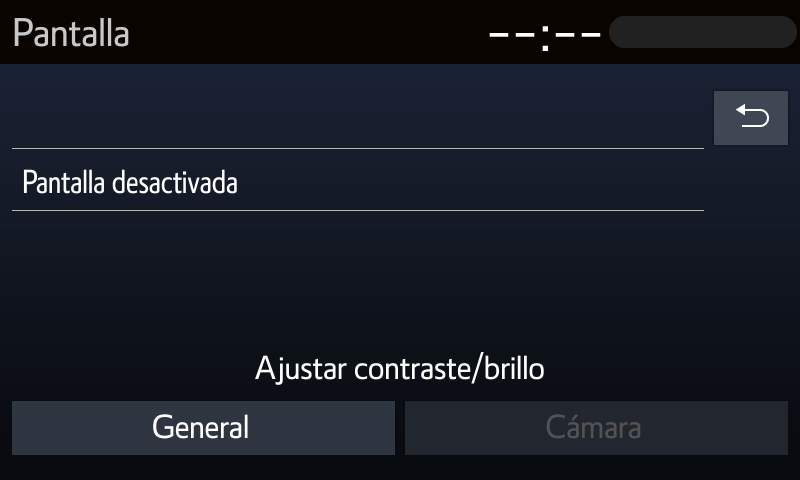touchPart: (10, 397, 397, 458), (712, 90, 790, 148)
untouchPart: (12, 140, 708, 222), (403, 397, 789, 455), (241, 345, 562, 387), (477, 13, 795, 55), (6, 15, 133, 53)
